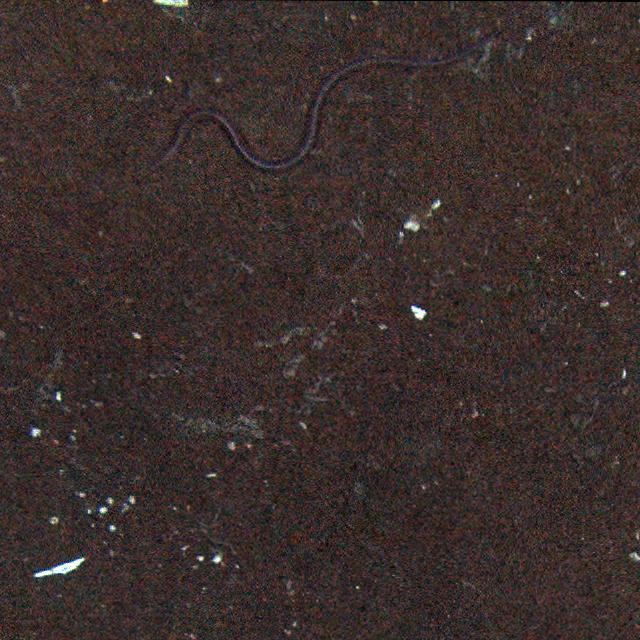eel: (153, 27, 501, 177)
